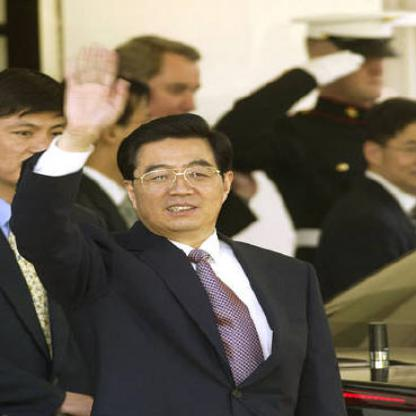face: (131, 124, 227, 234), (1, 80, 72, 190), (131, 47, 206, 138), (328, 22, 397, 104)
